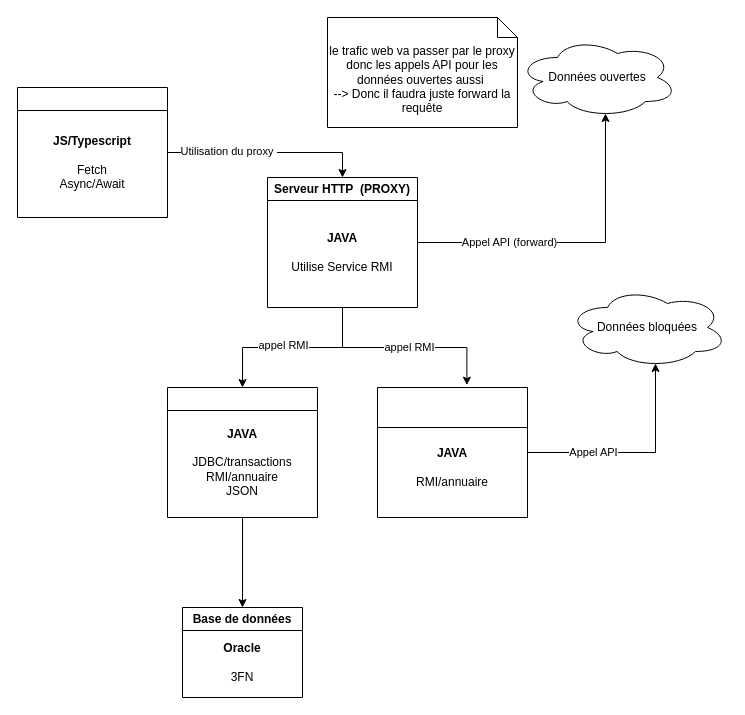
The diagram is 745 pixels wide and 715 high, and some of its shapes have lost their labels. The shapes that lost their labels are listed below. From the top down, each one's box as (x1, y1, x2, y2) in pixels, then its label:
(16, 86, 168, 218): Application web cliente
(166, 386, 318, 518): Service RMI gestion BD
(376, 386, 528, 518): Service RMI pour les données bloquées
